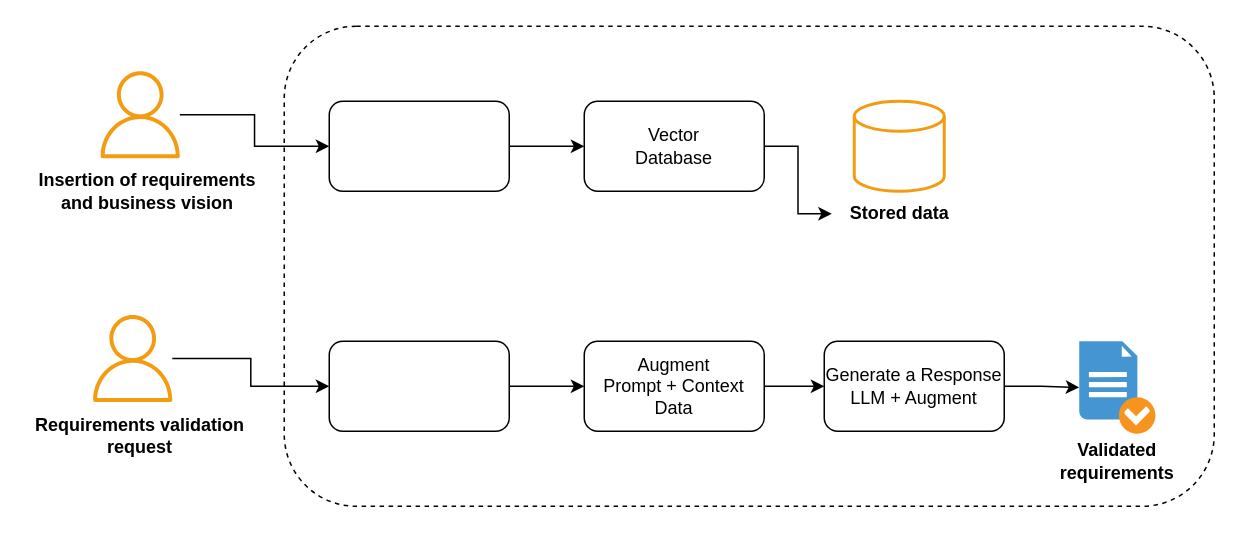
Some shapes in this 1241 by 533 pixel diagram are drawn without their labels. The box of each missing label's shape, as (x1, y1, x2, y2) in pixels:
Context Retrieval (Similarity Search): (328, 340, 509, 431)
Embedding API: (328, 100, 509, 191)
